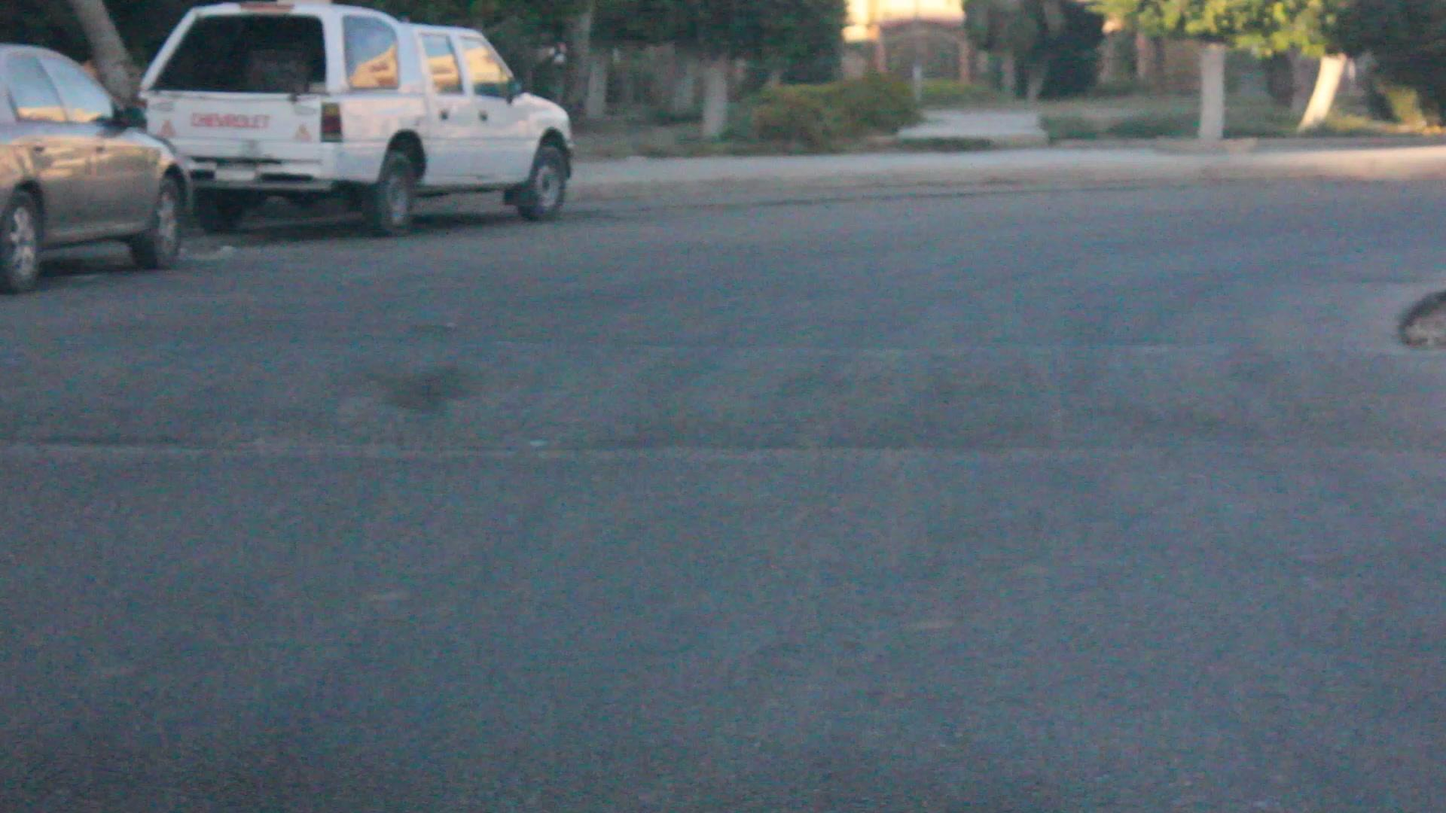Bump: (2, 309, 1446, 444)
